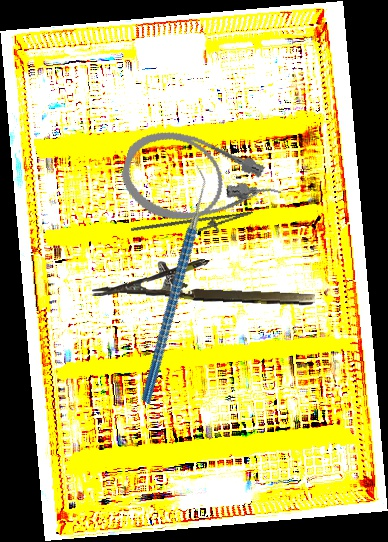Cannula: (113, 119, 289, 248)
Chopper: (67, 163, 276, 405)
Needle Holder: (91, 253, 317, 308), (130, 196, 256, 255)
